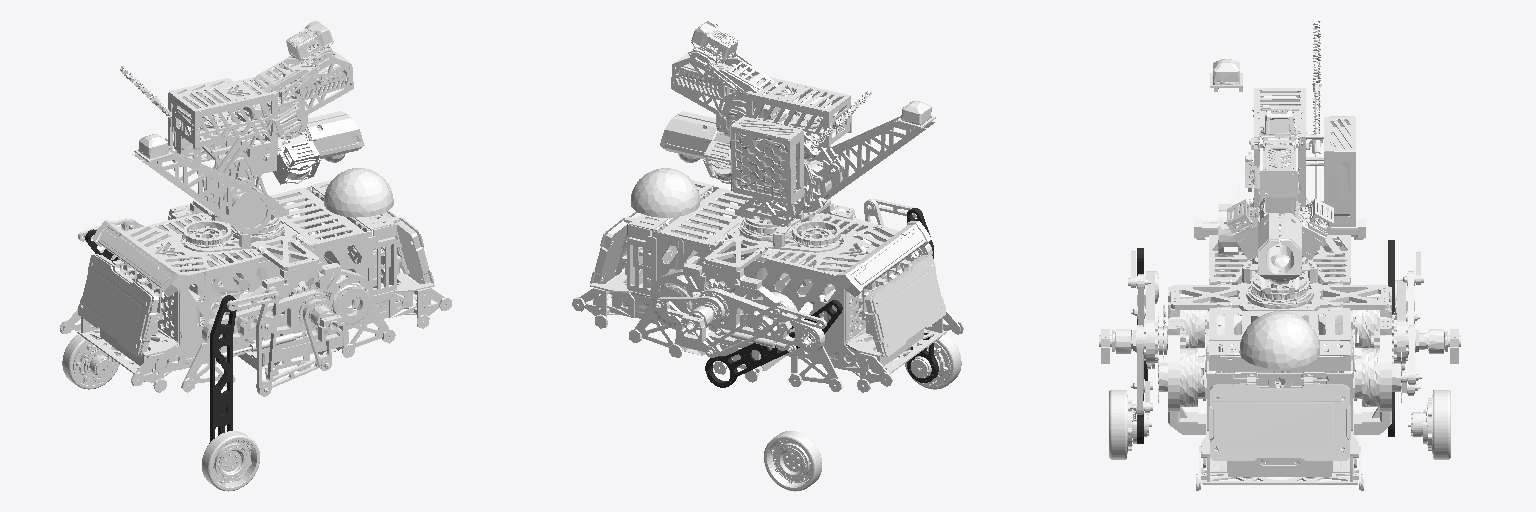
robot.urdf — 4.SLDASM:
<?xml version='1.0' encoding='utf-8'?>
<robot name="4.SLDASM">
  <link name="base_link">
    <inertial>
      <origin xyz="0.00720151573197648 0.00317841983811908 0.0894302776280683" rpy="0 0 0" />
      <mass value="11.8018663715117" />
      <inertia ixx="0.0213394189150672" ixy="5.36349556079974E-05" ixz="0.000879723284753483" iyy="0.0270248419744424" iyz="-1.54184392117092E-06" izz="0.0337928486088362" />
    </inertial>
    <visual>
      <origin xyz="0 0 0" rpy="0 0 0" />
      <geometry>
        <mesh filename="../meshes/visual/base_link_visual.obj" />
      </geometry>
      <material name="">
        <color rgba="1 1 1 1" />
      </material>
    </visual>
    <collision>
      <origin xyz="0 0 0" rpy="0 0 0" />
      <geometry>
        <mesh filename="../meshes/collision/base_link_full.obj" />
      </geometry>
    </collision>
  </link>
  <link name="L_Link1">
    <inertial>
      <origin xyz="-0.0118236975898316 -0.0772945870902954 -0.0132729663706566" rpy="0 0 0" />
      <mass value="0.362949797331699" />
      <inertia ixx="0.0011099998896383" ixy="2.22748064001169E-06" ixz="1.74915460711984E-09" iyy="0.00029270919440718" iyz="2.12974270846079E-06" izz="0.000835077771369502" />
    </inertial>
    <visual>
      <origin xyz="0 0 0" rpy="0 0 0" />
      <geometry>
        <mesh filename="../meshes/L_Link1.STL" />
      </geometry>
      <material name="">
        <color rgba="1 1 1 1" />
      </material>
    </visual>
    <collision>
      <origin xyz="0 0 0" rpy="0 0 0" />
      <geometry>
        <mesh filename="../meshes/L_Link1.STL" />
      </geometry>
    </collision>
  </link>
  <joint name="LJ1" type="continuous">
    <origin xyz="0 0.2064 0" rpy="0 0 -1.5708" />
    <parent link="base_link" />
    <child link="L_Link1" />
    <axis xyz="-1 0 0" />
  </joint>
  <link name="L_Link2">
    <inertial>
      <origin xyz="0.00622058595874936 0.00144701597815758 -0.106927835854411" rpy="0 0 0" />
      <mass value="0.17859570494211" />
      <inertia ixx="0.00172795341353165" ixy="-6.74002614588321E-08" ixz="-2.07725424791592E-06" iyy="0.00168619343255335" iyz="-3.90580330450679E-05" izz="4.59404531858625E-05" />
    </inertial>
    <visual>
      <origin xyz="0 0 0" rpy="0 0 0" />
      <geometry>
        <mesh filename="../meshes/L_Link2.STL" />
      </geometry>
      <material name="">
        <color rgba="0.250980392156863 0.250980392156863 0.250980392156863 1" />
      </material>
    </visual>
    <collision>
      <origin xyz="0 0 0" rpy="0 0 0" />
      <geometry>
        <mesh filename="../meshes/L_Link2.STL" />
      </geometry>
    </collision>
  </link>
  <joint name="LJ2" type="revolute">
    <origin xyz="-0.0300000000000003 -0.209999999988587 0" rpy="0 0 0" />
    <parent link="L_Link1" />
    <child link="L_Link2" />
    <axis xyz="1 0 0" />
    <limit lower="-0.41538836197465" upper="0.872664625997165" effort="30" velocity="1000" />
  </joint>
  <link name="L_Link3">
    <inertial>
      <origin xyz="-0.00943382736340331 1.34799182541223E-06 -0.000251537886579251" rpy="0 0 0" />
      <mass value="0.252863319281317" />
      <inertia ixx="0.000457876711915956" ixy="3.31205802272693E-09" ixz="3.27021838989517E-07" iyy="0.00023910975666017" iyz="-3.72582078877783E-10" izz="0.000240301747245214" />
    </inertial>
    <visual>
      <origin xyz="0 0 0" rpy="0 0 0" />
      <geometry>
        <mesh filename="../meshes/L_Link3.STL" />
      </geometry>
      <material name="">
        <color rgba="1 1 1 1" />
      </material>
    </visual>
    <collision>
      <origin xyz="0 0 0" rpy="0 0 0" />
      <geometry>
        <mesh filename="../meshes/L_Link3.STL" />
      </geometry>
    </collision>
  </link>
  <joint name="LJ3" type="continuous">
    <origin xyz="-0.0149999999999925 0 -0.249999999999998" rpy="0 0 0" />
    <parent link="L_Link2" />
    <child link="L_Link3" />
    <axis xyz="-0.999999999999981 0 0" />
  </joint>
  <link name="R_Link1">
    <inertial>
      <origin xyz="0.0118236662014992 -0.0772946388441419 -0.0132729652516751" rpy="0 0 0" />
      <mass value="0.362949568376505" />
      <inertia ixx="0.00110999986028311" ixy="-2.22767437325096E-06" ixz="-1.74602456928435E-09" iyy="0.000292709100069559" iyz="2.12970345804993E-06" izz="0.00083507783763184" />
    </inertial>
    <visual>
      <origin xyz="0 0 0" rpy="0 0 0" />
      <geometry>
        <mesh filename="../meshes/R_Link1.STL" />
      </geometry>
      <material name="">
        <color rgba="1 1 1 1" />
      </material>
    </visual>
    <collision>
      <origin xyz="0 0 0" rpy="0 0 0" />
      <geometry>
        <mesh filename="../meshes/R_Link1.STL" />
      </geometry>
    </collision>
  </link>
  <joint name="RJ1" type="continuous">
    <origin xyz="0 -0.2064 0" rpy="0 0 -1.5708" />
    <parent link="base_link" />
    <child link="R_Link1" />
    <axis xyz="-1 0 0" />
  </joint>
  <link name="R_Link2">
    <inertial>
      <origin xyz="-0.00624940310274325 0.00144026880096954 -0.107143907208437" rpy="0 0 0" />
      <mass value="0.168393373141602" />
      <inertia ixx="0.00162195356397668" ixy="6.31865178226149E-08" ixz="1.95003057428435E-06" iyy="0.00158272632458606" iyz="-3.66579365157784E-05" izz="4.31676526301467E-05" />
    </inertial>
    <visual>
      <origin xyz="0 0 0" rpy="0 0 0" />
      <geometry>
        <mesh filename="../meshes/R_Link2.STL" />
      </geometry>
      <material name="">
        <color rgba="0.250980392156863 0.250980392156863 0.250980392156863 1" />
      </material>
    </visual>
    <collision>
      <origin xyz="0 0 0" rpy="0 0 0" />
      <geometry>
        <mesh filename="../meshes/R_Link2.STL" />
      </geometry>
    </collision>
  </link>
  <joint name="RJ2" type="revolute">
    <origin xyz="0.03 -0.21 0" rpy="0 0 0" />
    <parent link="R_Link1" />
    <child link="R_Link2" />
    <axis xyz="1 0 0" />
    <limit lower="-0.41538836197465" upper="0.872664625997165" effort="30" velocity="1000" />
  </joint>
  <link name="R_Link3">
    <inertial>
      <origin xyz="0.0094338273633463 -1.34838453136332E-06 -0.000251537886678477" rpy="0 0 0" />
      <mass value="0.252863319281318" />
      <inertia ixx="0.000457876711916232" ixy="3.30295332036486E-09" ixz="-3.27021839186E-07" iyy="0.000239109756658674" iyz="3.72593392244399E-10" izz="0.000240301747246437" />
    </inertial>
    <visual>
      <origin xyz="0 0 0" rpy="0 0 0" />
      <geometry>
        <mesh filename="../meshes/R_Link3.STL" />
      </geometry>
      <material name="">
        <color rgba="1 1 1 1" />
      </material>
    </visual>
    <collision>
      <origin xyz="0 0 0" rpy="0 0 0" />
      <geometry>
        <mesh filename="../meshes/R_Link3.STL" />
      </geometry>
    </collision>
  </link>
  <joint name="RJ3" type="continuous">
    <origin xyz="0.015 0 -0.25" rpy="0 0 0" />
    <parent link="R_Link2" />
    <child link="R_Link3" />
    <axis xyz="-1 0 0" />
  </joint>
</robot>

--- What the picture shows (computed from the rendered views, not written in the file) ---
Views: 3 orthographic renders of the robot side by side, from view 1: azimuth 30°, elevation 25°; view 2: azimuth 150°, elevation 25°; view 3: azimuth 270°, elevation 25°.
Robot: 4.SLDASM — 7 links, 6 joints (2 revolute, 4 continuous); root link base_link; default pose: every joint at zero.
Links seen in each view (by area): view 1: base_link, R_Link1, R_Link3, R_Link2, L_Link3; view 2: base_link, L_Link1, L_Link3, L_Link2, R_Link3, R_Link1, R_Link2; view 3: base_link, R_Link1, L_Link1, L_Link3, R_Link3, L_Link2.
Link boxes in pixels (x1,y1,x2,y2): base_link: (60,21,451,392); R_Link1: (202,285,331,396); R_Link3: (202,431,259,491); R_Link2: (209,295,236,443); L_Link3: (62,333,120,389); base_link: (572,21,963,392); L_Link1: (653,282,826,357); L_Link3: (764,431,821,491); L_Link2: (705,300,842,387); R_Link3: (903,334,961,389); R_Link1: (853,199,932,274); R_Link2: (907,208,938,382); base_link: (1099,21,1460,490); R_Link1: (1128,251,1166,414); L_Link1: (1392,252,1423,395); L_Link3: (1408,390,1450,459); R_Link3: (1109,390,1151,459); L_Link2: (1388,240,1394,436).
Bounding box of the posed robot: 0.7106 × 0.598 × 0.7936 m (x, y, z).
7 mesh visuals loaded from 7 distinct referenced files (6 binary STL, 1 OBJ).
